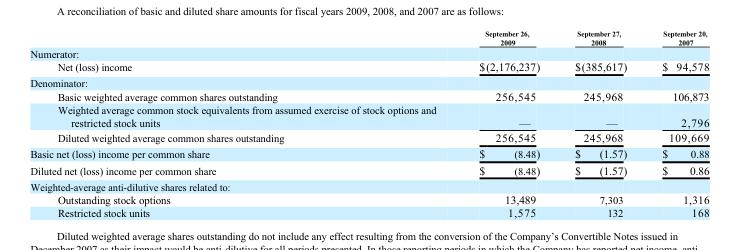table: (29, 28, 708, 218)
table column: (29, 28, 457, 218), (457, 28, 556, 218), (556, 28, 643, 218), (643, 28, 708, 218)
table column header: (29, 28, 708, 46)
table projected row header: (29, 74, 708, 89), (29, 178, 708, 192), (29, 46, 708, 59)
table row: (29, 102, 708, 129), (29, 28, 708, 46), (29, 161, 708, 178), (29, 129, 708, 145), (29, 145, 708, 161), (29, 59, 708, 74), (29, 74, 708, 89), (29, 178, 708, 192), (29, 46, 708, 59), (29, 89, 708, 102), (29, 192, 708, 205), (29, 205, 708, 218)
